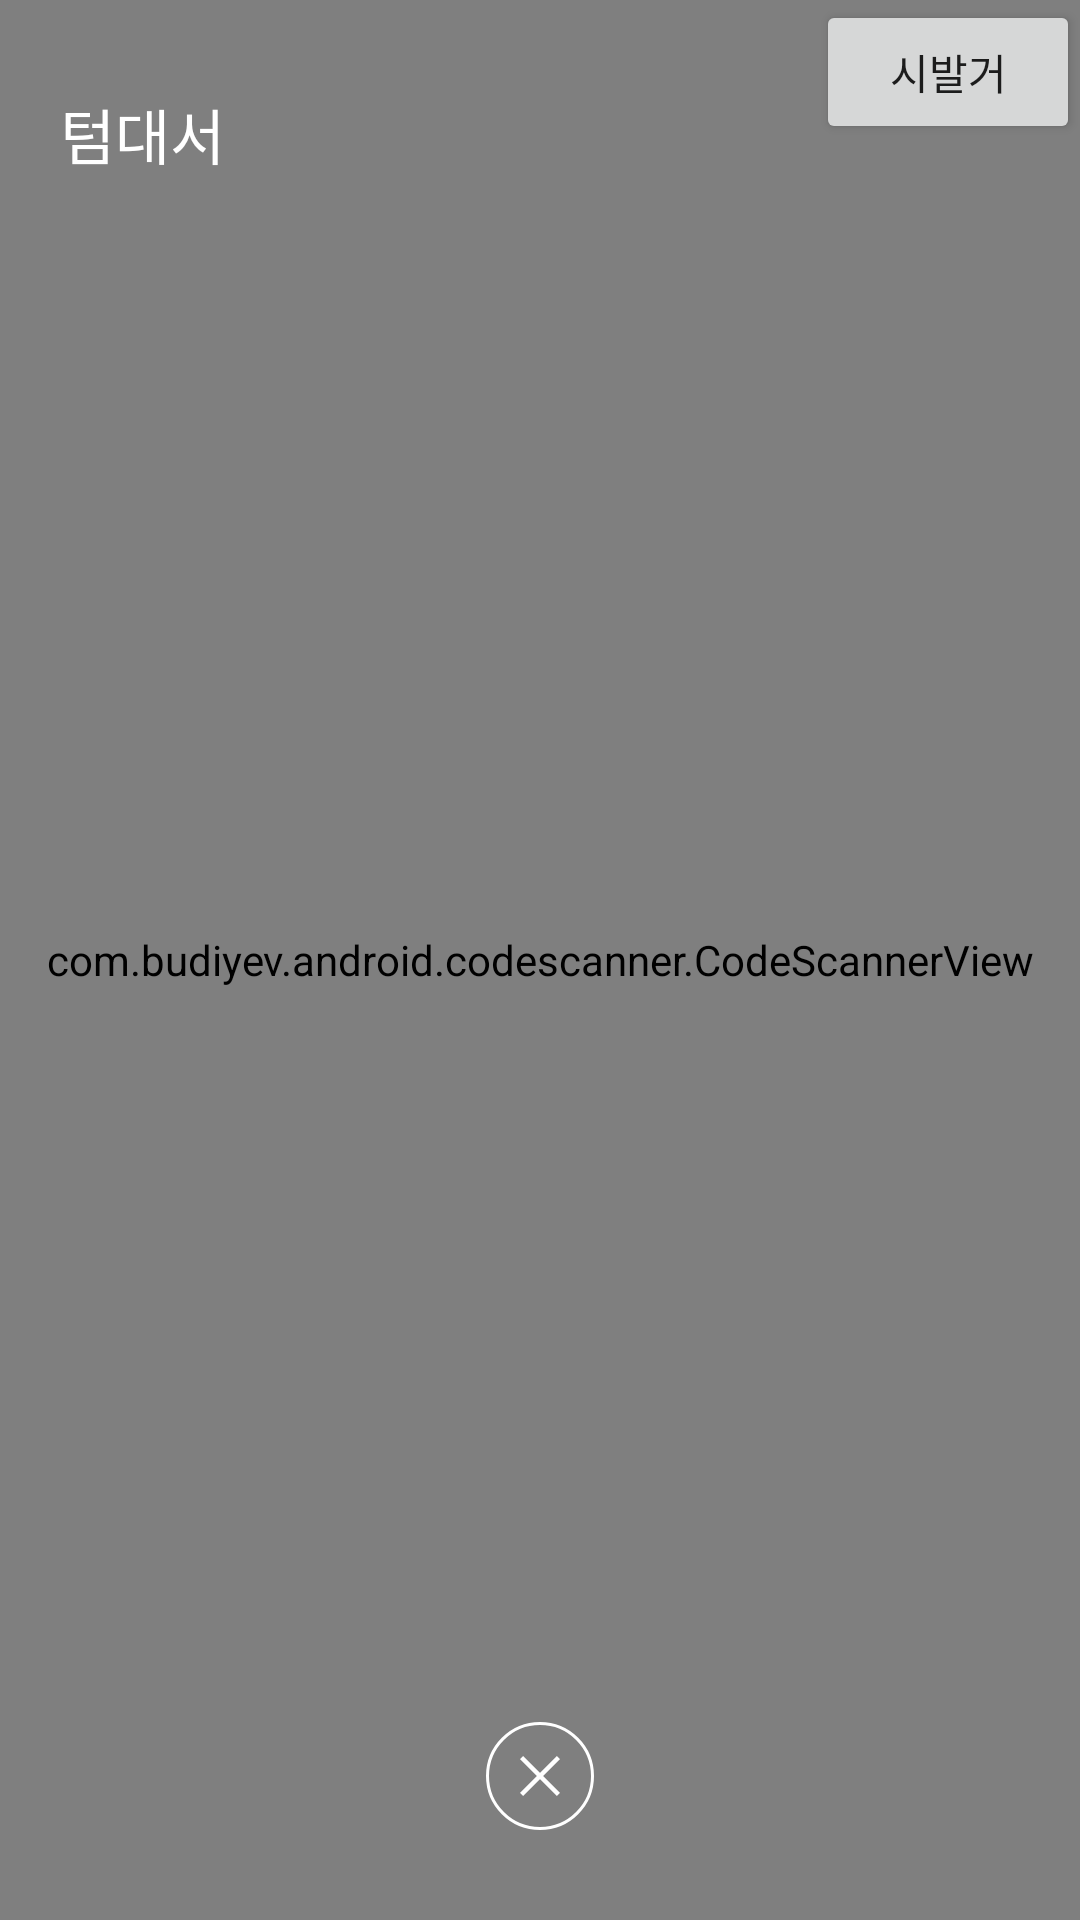

Point at icon controls on the screen. Image size 1080w x 1920h, points as (x,y).
qr close: (540,1776)
